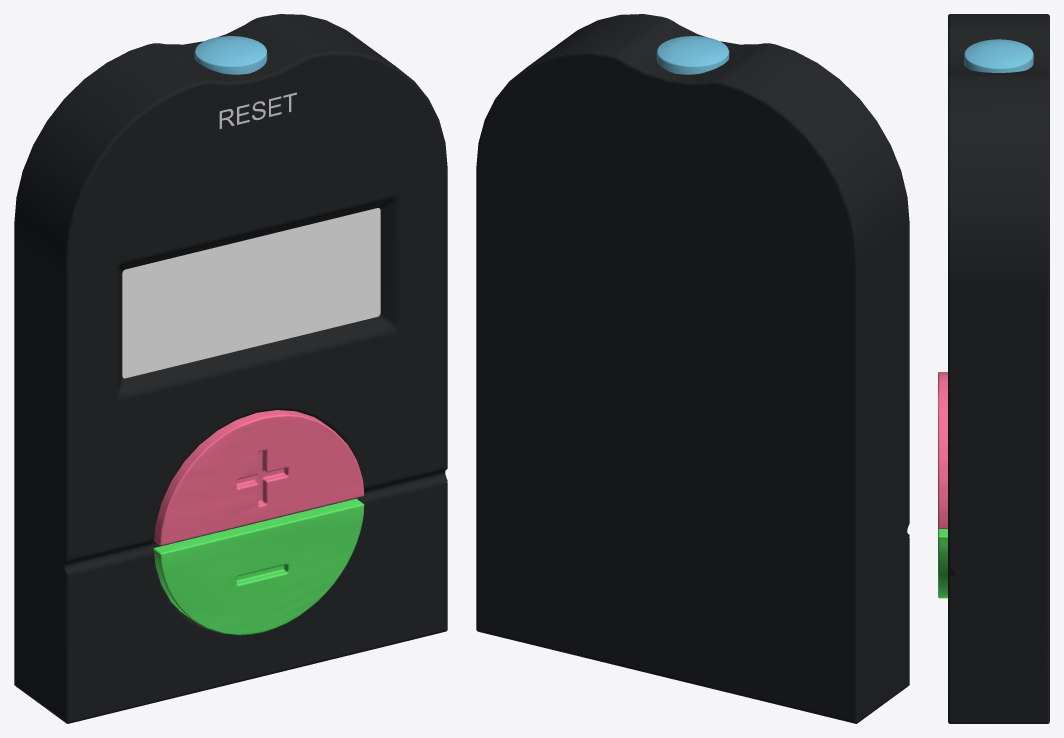
File: Clicker_Counter.glb
3 renders of one model, left to right at view 1: azimuth 30°, elevation 25°; view 2: azimuth 150°, elevation 25°; view 3: azimuth 270°, elevation 25°, orthographic. The views are drawn at different scales.
Visible parts, largest first — view 1: Body.001, Buttons, Reset Button; view 2: Body.001, Reset Button; view 3: Body.001, Buttons, Reset Button.
Boxes of the visible parts, x1=… form: Body.001: x1=14, y1=14, x2=447, y2=723; Buttons: x1=153, y1=410, x2=364, y2=635; Reset Button: x1=194, y1=36, x2=267, y2=74; Body.001: x1=476, y1=14, x2=909, y2=723; Reset Button: x1=656, y1=36, x2=729, y2=74; Body.001: x1=948, y1=14, x2=1049, y2=723; Buttons: x1=938, y1=372, x2=947, y2=598; Reset Button: x1=964, y1=39, x2=1033, y2=72.
Size of the model in its own units: 0.0571 by 0.0875 by 0.0151.
